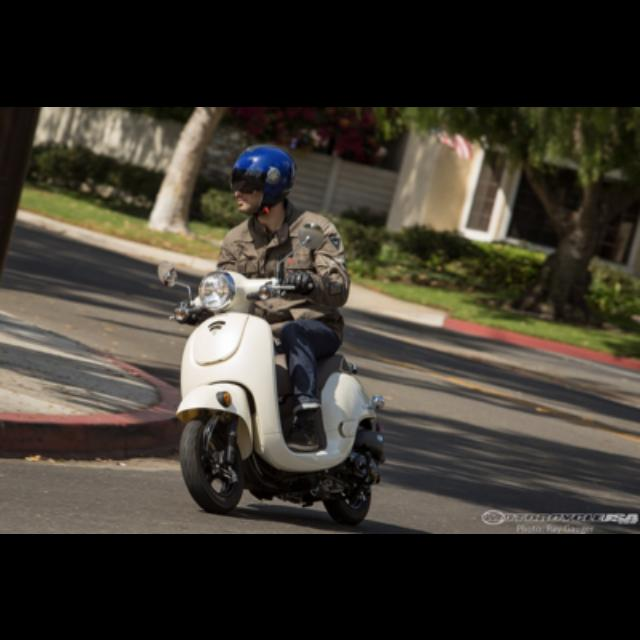With Helmet: (221, 143, 303, 217)
